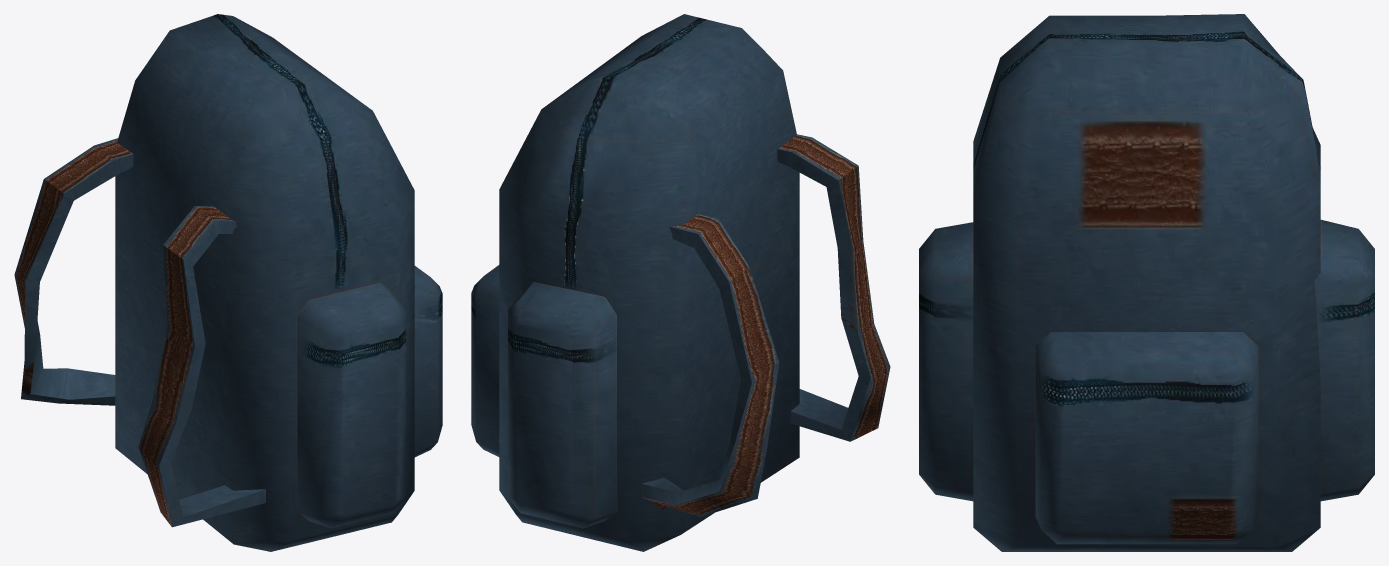
File: Backpack-transformed.glb
3 renders of one model, left to right at view 1: azimuth 30°, elevation 25°; view 2: azimuth 150°, elevation 25°; view 3: azimuth 270°, elevation 25°, orthographic. The views are drawn at different scales.
Visible parts, largest first — view 1: Backpack.001; view 2: Backpack.001; view 3: Backpack.001.
Boxes of the visible parts, x1,y1,x2,y2 form: Backpack.001: [14, 14, 442, 551]; Backpack.001: [471, 14, 890, 551]; Backpack.001: [919, 14, 1374, 551].
Size of the model in its own units: 0.6083 by 0.7996 by 0.6822.
1 material, 1 textured.
